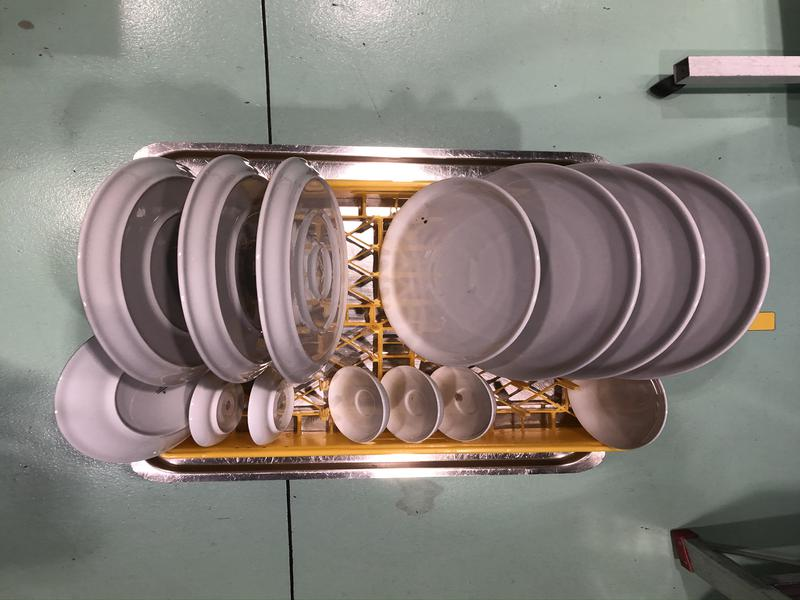Dish: (482, 164, 643, 381), (569, 161, 707, 381), (379, 176, 537, 365), (646, 159, 770, 376), (565, 380, 667, 447), (375, 367, 447, 441), (430, 366, 497, 444), (329, 364, 390, 443)
Inclined_dish: (78, 157, 197, 388), (176, 152, 269, 384), (255, 154, 346, 382), (53, 338, 191, 464), (188, 389, 240, 445), (247, 383, 289, 442)
